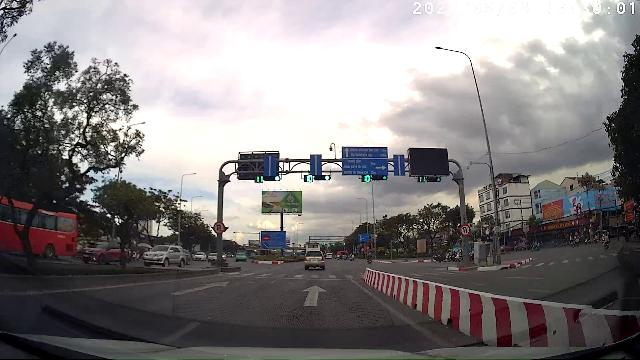124a-cam-quay-dau-xe: (459, 223, 471, 236), (213, 222, 224, 234)
